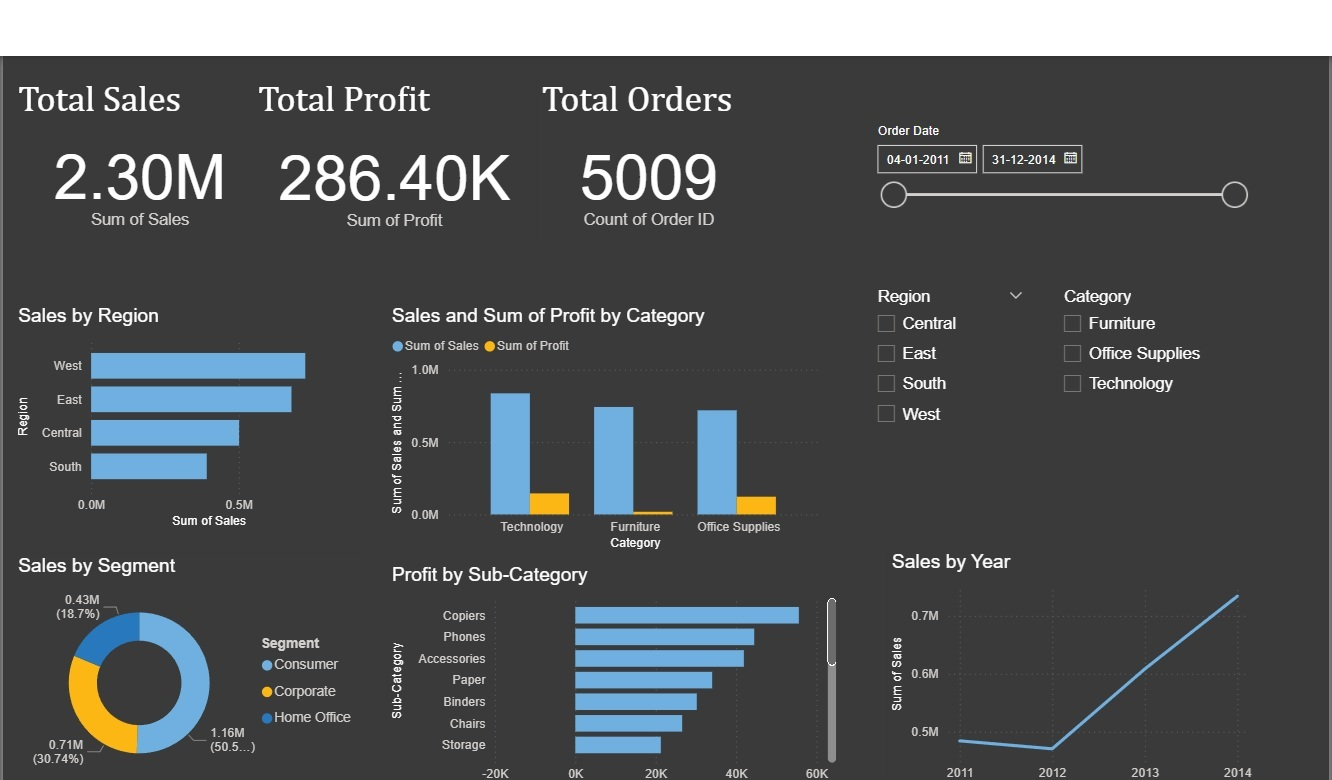

The page's visual inventory and layout, read from the dashboard file:
{"tool":"powerbi","page":{"name":"Page 1","canvas":[1280,720],"ordinal":0},"visuals":[{"type":"card","title":"Total Sales","fields":{"Values":["Sum(Orders.Sales)"]},"box":[10,20,245.6,160],"z":0},{"type":"card","title":"Total Profit","fields":{"Values":["Sum(Orders.Profit)"]},"box":[241.7,20,273.3,161.7],"z":1000},{"type":"card","title":"Total Orders","fields":{"Values":["Count(Orders.Order ID)"]},"box":[515,20,216.7,160],"z":2000},{"type":"clusteredBarChart","title":" Sales by Region","fields":{"Category":["Orders.Region"],"Y":["Sum(Orders.Sales)"]},"box":[9.8,239.8,322.5,220.2],"z":3000},{"type":"clusteredColumnChart","title":"Sales and Sum of Profit by Category","fields":{"Category":["Orders.Category"],"Y":["Sum(Orders.Sales)","Sum(Orders.Profit)"]},"box":[370.2,239.8,424.9,241.2],"z":4000},{"type":"lineChart","title":"Sales by Year","fields":{"Category":["Orders.Order Date.Variation.Date Hierarchy.Year","Orders.Order Date.Variation.Date Hierarchy.Quarter","Orders.Order Date.Variation.Date Hierarchy.Month","Orders.Order Date.Variation.Date Hierarchy.Day"],"Y":["Sum(Orders.Sales)"]},"box":[852.6,478.2,357.6,241.2],"z":5000},{"type":"donutChart","title":"Sales by Segment","fields":{"Category":["Orders.Segment"],"Y":["Sum(Orders.Sales)"]},"box":[10,481.5,340,227],"z":6000},{"type":"barChart","title":"Profit by Sub-Category","fields":{"Category":["Orders.Sub-Category"],"Y":["Sum(Orders.Profit)"]},"box":[370.2,489.4,438.9,230],"z":7000},{"type":"slicer","fields":{"Values":["Orders.Region"]},"box":[831.6,218.8,165.5,159.9],"z":8000},{"type":"slicer","fields":{"Values":["Orders.Category"]},"box":[1011,218.8,172.5,159.9],"z":9000},{"type":"slicer","fields":{"Values":["Orders.Order Date"]},"box":[831.6,60.3,378.6,137.4],"z":10000}]}

Visuals, with their boxes on the page's 1280x720 design canvas (x1, y1, x2, y2). These are canvas units, not pixel positions in the 1332x780 screenshot, which may show the page scaled, cropped or inside an application window:
"Total Sales" card: (left=10, top=20, right=256, bottom=180)
"Total Profit" card: (left=242, top=20, right=515, bottom=182)
"Total Orders" card: (left=515, top=20, right=732, bottom=180)
" Sales by Region" clusteredBarChart: (left=10, top=240, right=332, bottom=460)
"Sales and Sum of Profit by Category" clusteredColumnChart: (left=370, top=240, right=795, bottom=481)
"Sales by Year" lineChart: (left=853, top=478, right=1210, bottom=719)
"Sales by Segment" donutChart: (left=10, top=482, right=350, bottom=708)
"Profit by Sub-Category" barChart: (left=370, top=489, right=809, bottom=719)
slicer - Orders.Region: (left=832, top=219, right=997, bottom=379)
slicer - Orders.Category: (left=1011, top=219, right=1184, bottom=379)
slicer - Orders.Order Date: (left=832, top=60, right=1210, bottom=198)
